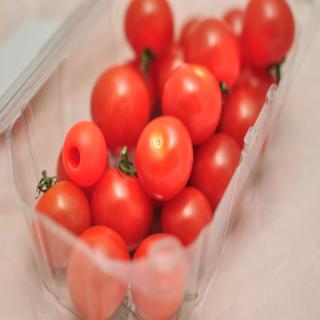tomato: (93, 148, 154, 255), (32, 161, 92, 269), (66, 223, 130, 320), (130, 231, 198, 319), (92, 64, 149, 158), (135, 115, 193, 204), (162, 64, 222, 146), (244, 0, 295, 84), (188, 16, 241, 96), (191, 131, 241, 212), (124, 0, 174, 72), (160, 187, 213, 245), (219, 84, 262, 144), (224, 4, 244, 48)
